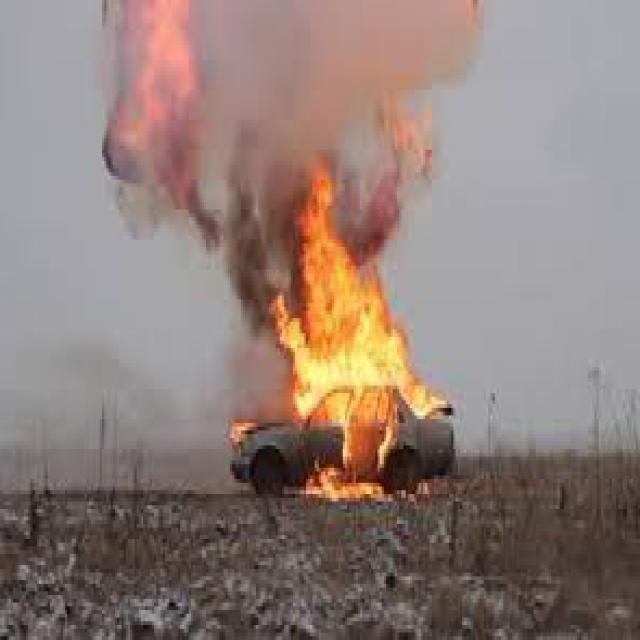Fire: (232, 166, 448, 514), (90, 0, 193, 170)
Smoke: (192, 0, 462, 262)
